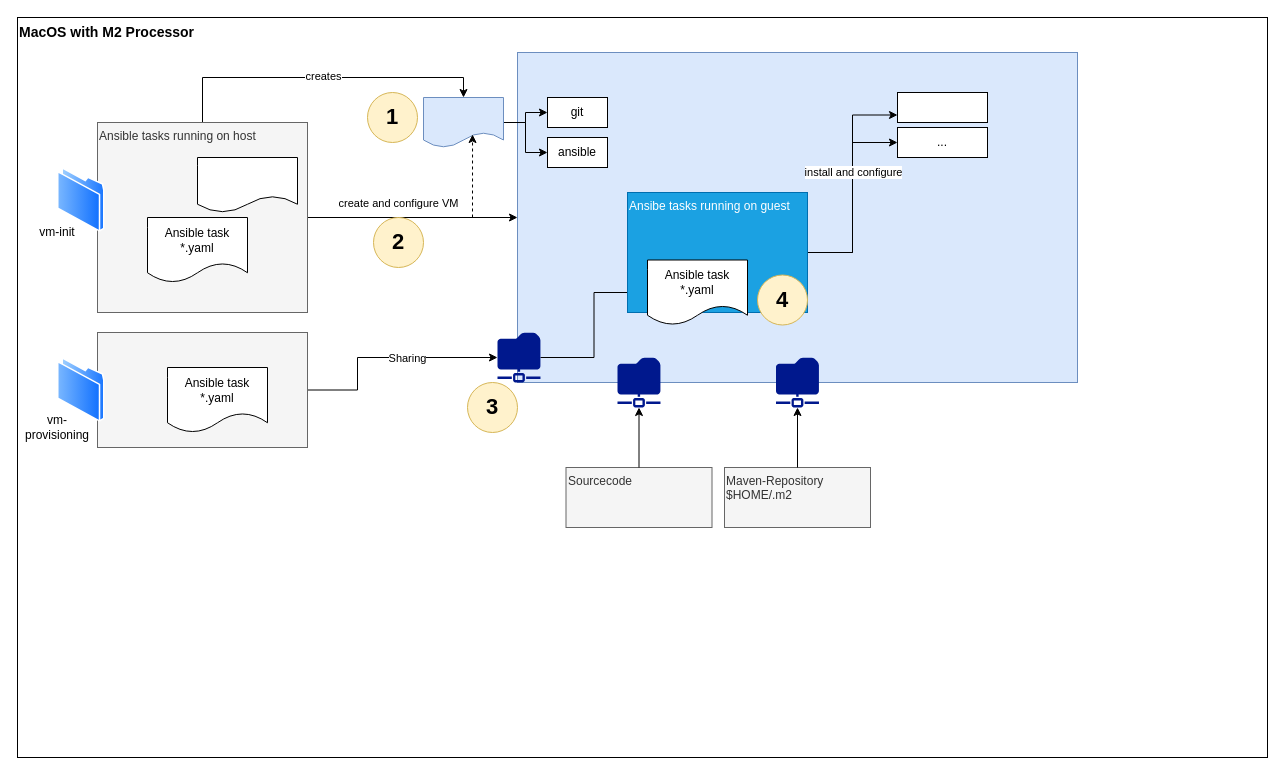
Some shapes in this 1285 by 775 pixel diagram are drawn without their labels. The shapes that lost their labels are listed below. From the top down, each one's box as (x1, y1, x2, y2) in pixels, then its label:
(422, 96, 504, 148): cloud-init.yaml
(896, 92, 988, 122): Maven
(196, 156, 298, 212): vm-config.yaml
(516, 52, 1078, 382): Multipass Ubuntu VM
(96, 332, 308, 448): Ansible tasks designed for guest
